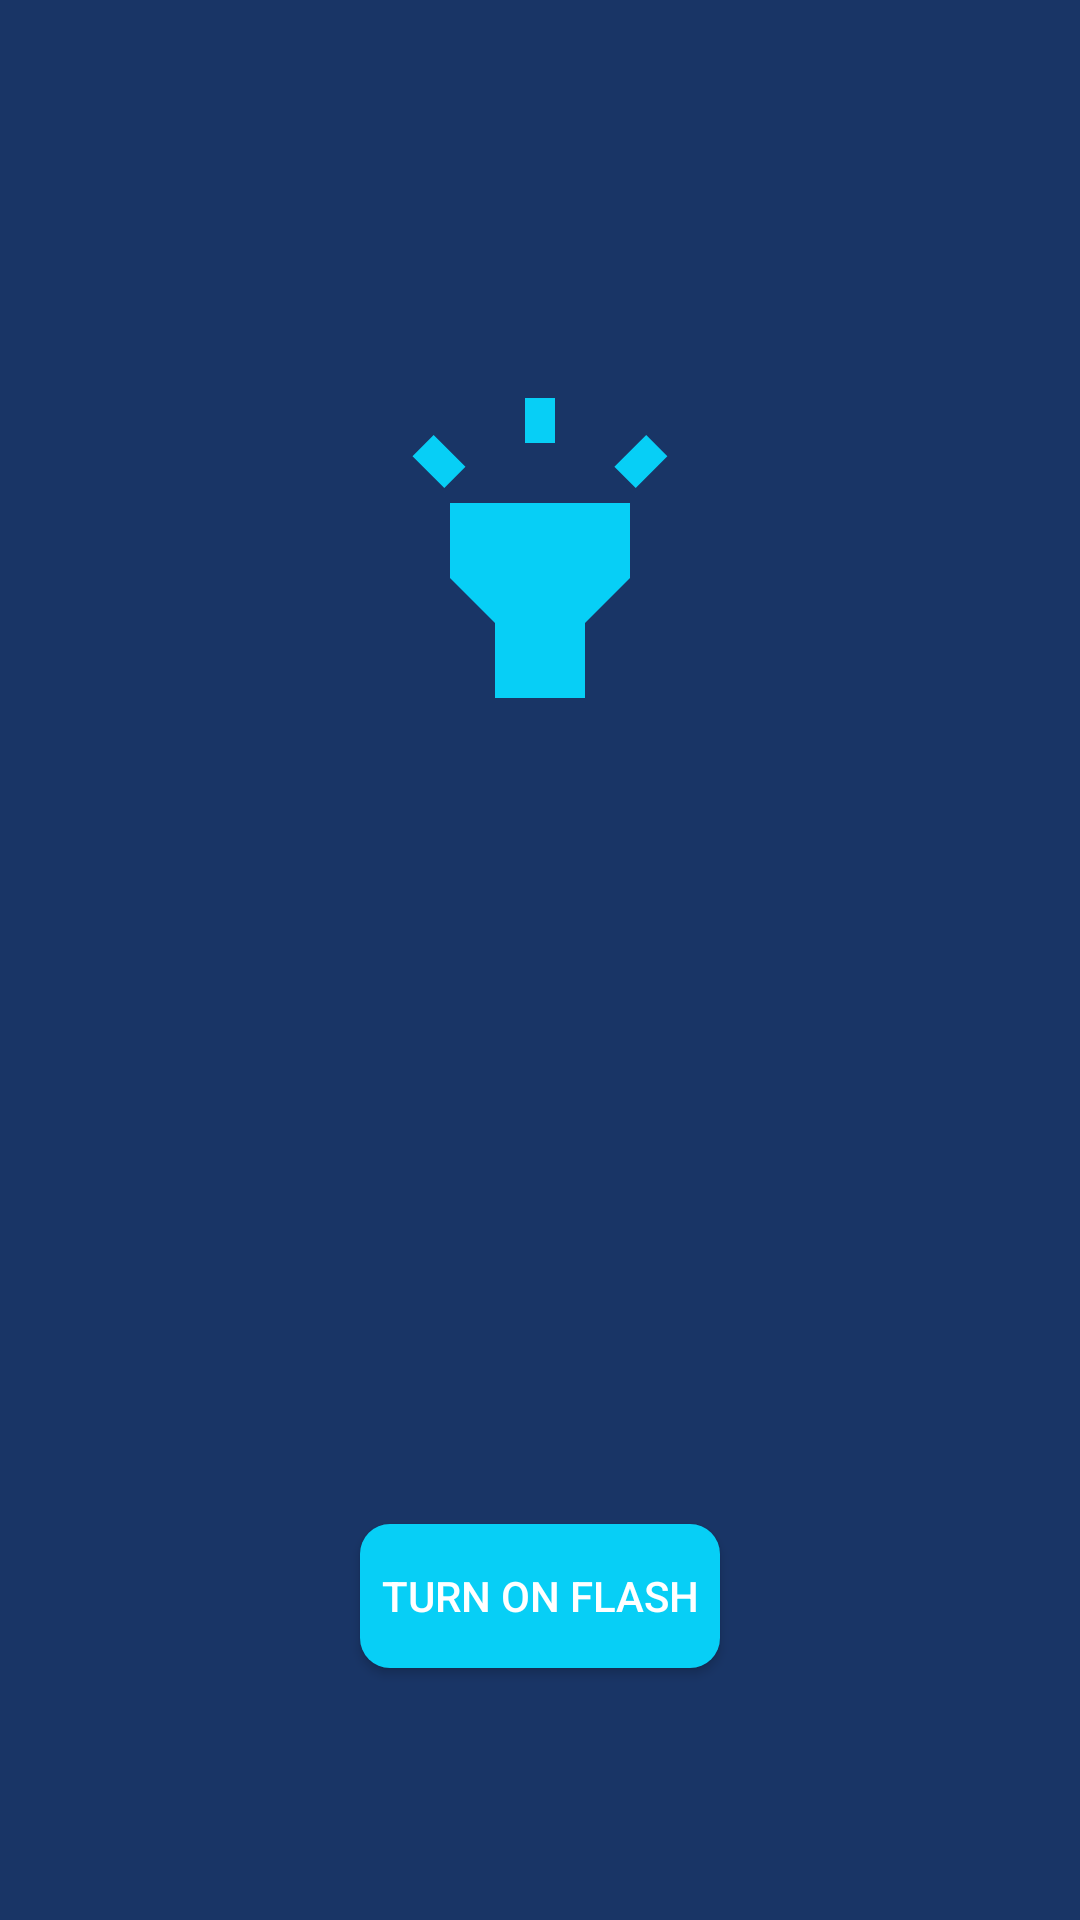

Icon bounding boxes for this 1080x1920 phone screenshot, format (x1, y1, x2, y2):
flash: (412, 398, 667, 698)
